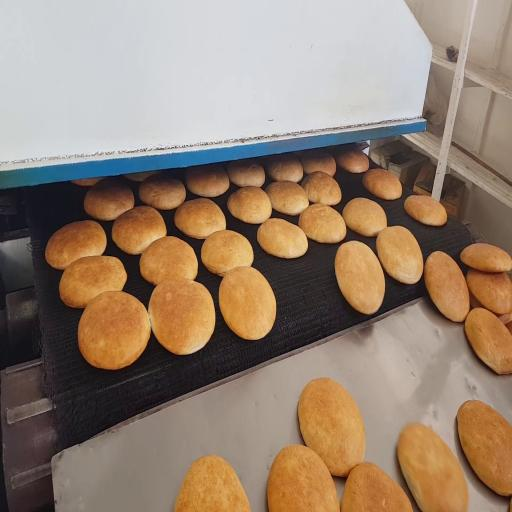bread: (298, 378, 365, 476), (398, 424, 468, 511), (78, 292, 150, 369), (149, 278, 215, 355), (457, 401, 511, 495), (267, 445, 339, 511), (174, 456, 250, 511), (219, 267, 276, 339), (335, 241, 385, 314), (59, 256, 127, 308), (341, 462, 412, 511), (424, 251, 469, 321), (465, 308, 511, 374), (46, 220, 106, 269), (140, 237, 198, 285), (376, 226, 423, 284), (112, 206, 166, 254), (201, 230, 253, 276), (84, 179, 134, 220), (175, 198, 225, 239), (467, 269, 511, 314), (257, 219, 307, 258), (299, 204, 346, 243), (343, 198, 387, 237), (139, 174, 185, 210), (228, 186, 271, 223), (185, 164, 230, 197), (266, 181, 309, 215), (460, 244, 511, 272), (404, 195, 447, 226), (302, 172, 341, 205), (363, 169, 402, 200), (227, 160, 265, 187), (266, 155, 303, 182), (301, 152, 336, 176), (336, 148, 369, 173), (124, 171, 160, 182), (72, 177, 103, 186)
